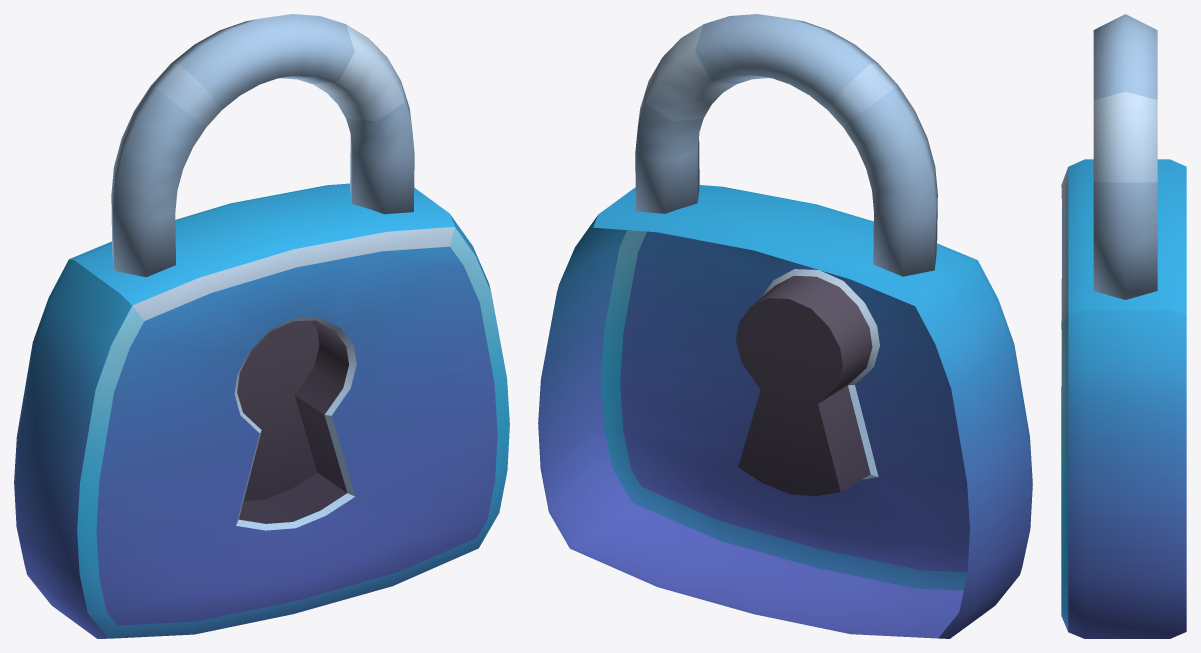
File: Lock.fbx
3 renders of one model, left to right at view 1: azimuth 30°, elevation 25°; view 2: azimuth 150°, elevation 25°; view 3: azimuth 270°, elevation 25°, orthographic. The views are drawn at different scales.
Visible parts, largest first — view 1: Lock; view 2: Lock; view 3: Lock.
Boxes of the visible parts, left/top/right/bottom form: Lock: left=14, top=14, right=509, bottom=638; Lock: left=538, top=14, right=1032, bottom=638; Lock: left=1061, top=14, right=1186, bottom=638.
Size of the model in its own units: 156 by 194 by 40.51.
